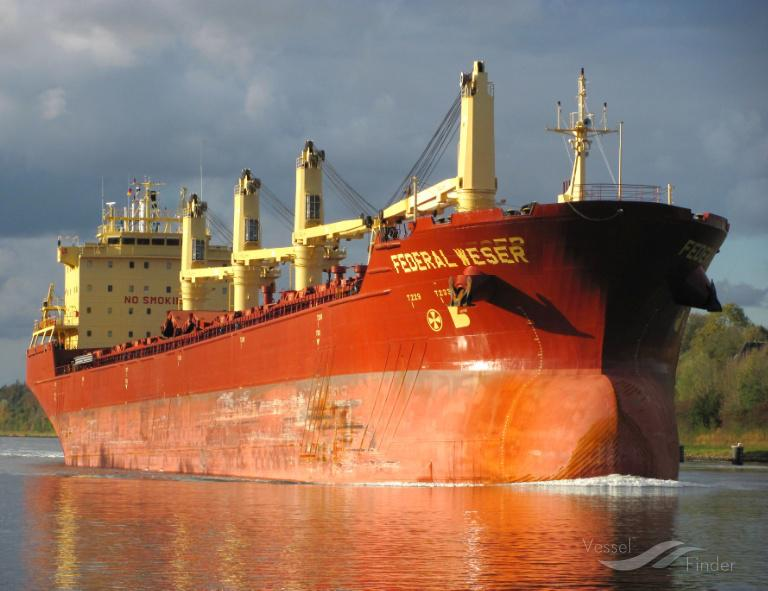OCR: (378, 233, 544, 275)
